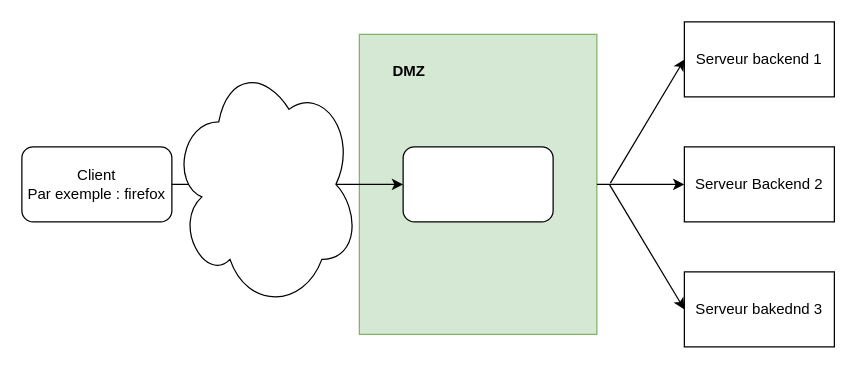
The diagram is 856 pixels wide and 369 high, and some of its shapes have lost their labels. Here are the shapes that lost their labels. From the top down, the centre of each, then its label:
At (265,183): "Internet".
At (477,184): "HTTP Reverse Proxy".
